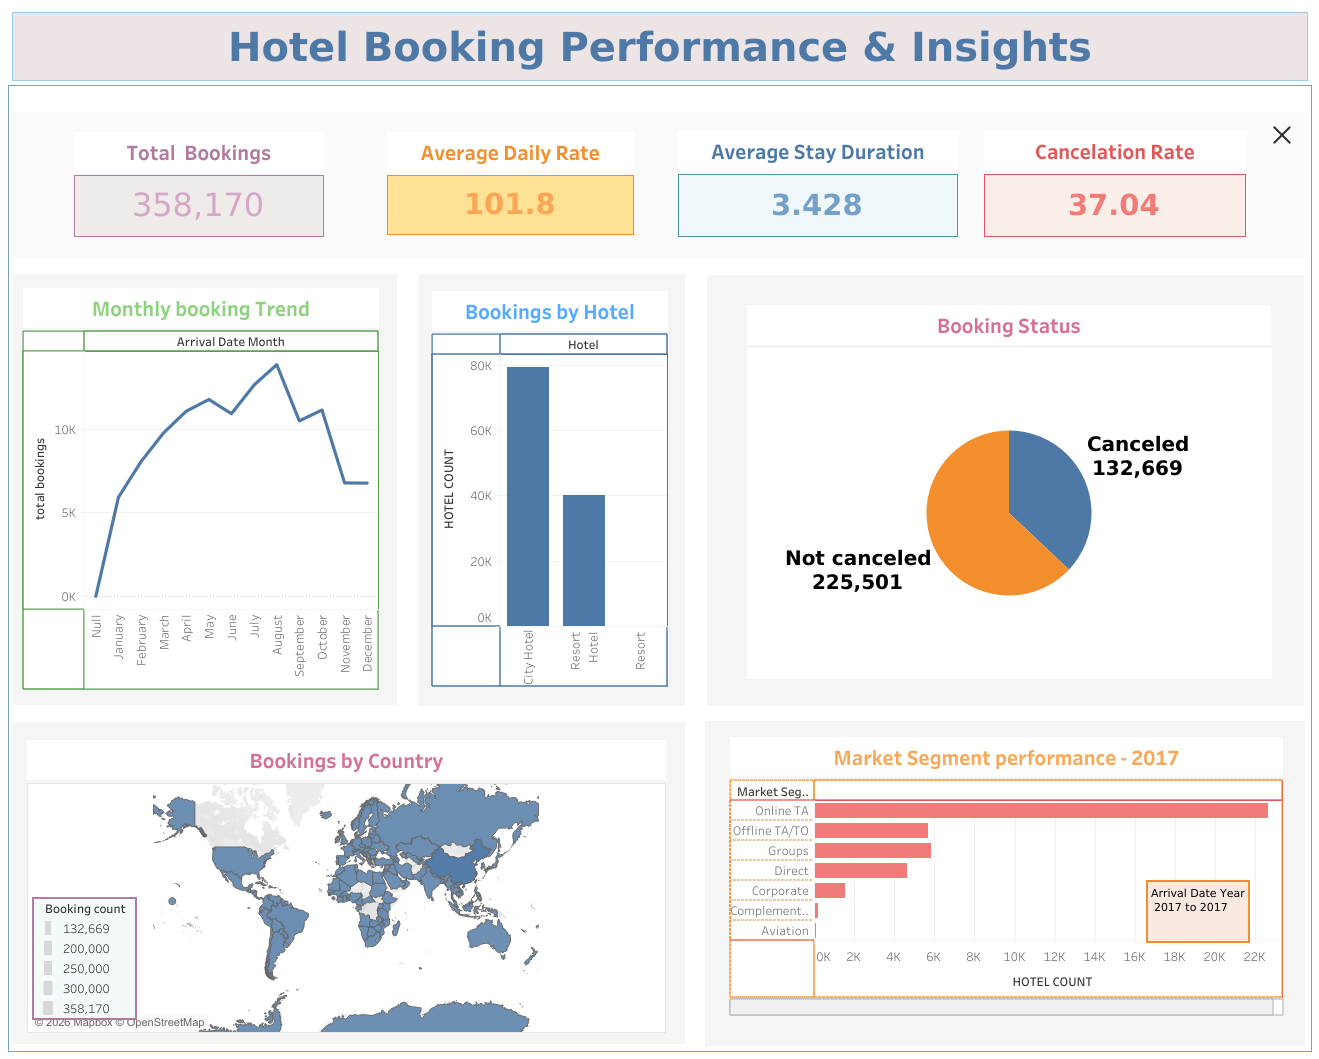

Layout of this report page (visuals, bound fields, positions):
{"tool":"tableau","page":{"name":"Dashboard 1","canvas":[1000,1000],"units":"permille","ordinal":0},"visuals":[{"type":"title","box":[6.1,7.5,987.9,72.6]},{"type":"dashboard-object","box":[961.5,109.1,19.7,36.4]},{"type":"worksheet","title":"average stay duration","mark":"Automatic","box":[513.8,123.3,212.1,100]},{"type":"worksheet","title":"cancelation rate","mark":"Automatic","box":[745.3,123.3,198.8,100]},{"type":"worksheet","title":"kpi","mark":"Automatic","box":[55.9,124.4,189.9,98.8]},{"type":"worksheet","title":"average daily rate","mark":"Automatic","box":[292.8,124.4,187.2,97.7]},{"type":"worksheet","title":"monthly booking trend","mark":"Line","rows":["Calculation_277252875231227904"],"cols":["arrival_date_month"],"box":[17.8,272.1,269.7,379.1]},{"type":"worksheet","title":"booking by hotel","mark":"Automatic","rows":["Calculation_277252875241168901"],"cols":["hotel"],"box":[327.4,274.4,178.3,373.3]},{"type":"worksheet","title":"booking status","mark":"Pie","box":[565.6,287.5,397.5,352.1]},{"type":"worksheet","title":"market segment performance","mark":"Automatic","rows":["market_segment"],"cols":["Calculation_277252875241168901"],"box":[553,695.3,418.9,273.6]},{"type":"worksheet","title":"bookings by country","mark":"Multipolygon","box":[20.4,698.1,484.1,276.4]},{"type":"filter","title":"market segment performance","param":"[federated.1u6u5lf003it471ccyol41wfoouo].[none:arrival_date_year:qk]","box":[868.2,830.2,78.8,59.4]},{"type":"legend","title":"bookings by country","param":"[federated.1u6u5lf003it471ccyol41wfoouo].[sum:Booking_count:qk]","box":[24.2,846.2,79.5,123.6]}]}

Visuals, with their boxes on the dashboard's canvas, which has no fixed pixel size, in thousandths of its width and height (x1, y1, x2, y2). These are canvas units, not pixel positions in the 1319x1059 screenshot, which may show the page scaled, cropped or inside an application window:
title: <bbox>6, 8, 994, 80</bbox>
dashboard-object: <bbox>962, 109, 981, 146</bbox>
"average stay duration" worksheet: <bbox>514, 123, 726, 223</bbox>
"cancelation rate" worksheet: <bbox>745, 123, 944, 223</bbox>
"kpi" worksheet: <bbox>56, 124, 246, 223</bbox>
"average daily rate" worksheet: <bbox>293, 124, 480, 222</bbox>
"monthly booking trend" worksheet (Line marks): <bbox>18, 272, 288, 651</bbox>
"booking by hotel" worksheet: <bbox>327, 274, 506, 648</bbox>
"booking status" worksheet (Pie marks): <bbox>566, 288, 963, 640</bbox>
"market segment performance" worksheet: <bbox>553, 695, 972, 969</bbox>
"bookings by country" worksheet (Multipolygon marks): <bbox>20, 698, 504, 974</bbox>
"market segment performance" filter: <bbox>868, 830, 947, 890</bbox>
"bookings by country" legend: <bbox>24, 846, 104, 970</bbox>
